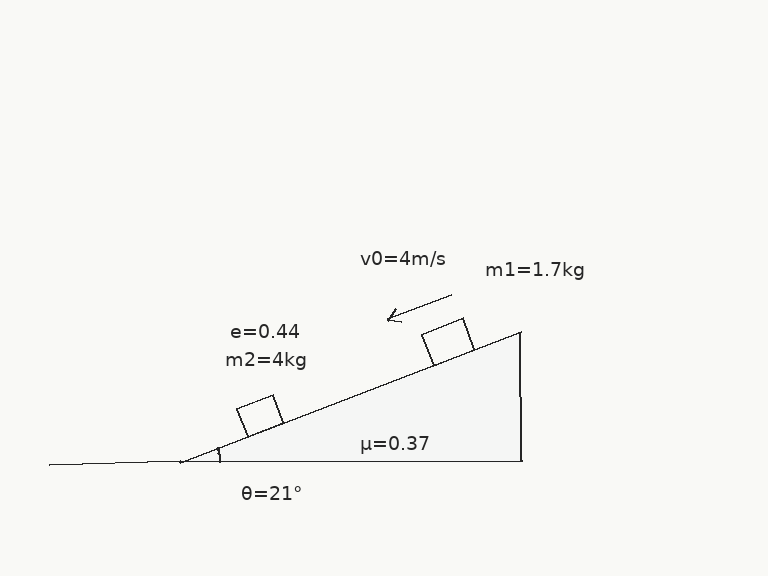block: (419, 317, 476, 367), (235, 393, 286, 438)
ramp: (178, 329, 523, 464)
